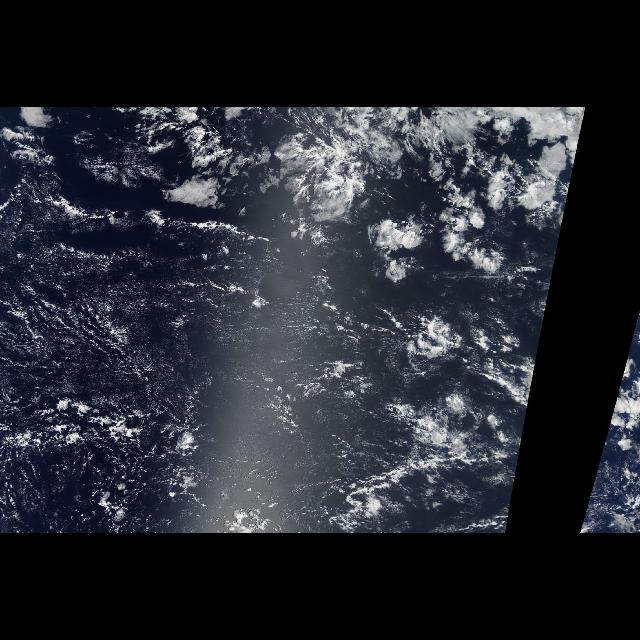Fish: (269, 441, 507, 529)
Flower: (359, 148, 555, 286)
Gravel: (8, 386, 196, 522)
Sugar: (3, 217, 235, 531)
